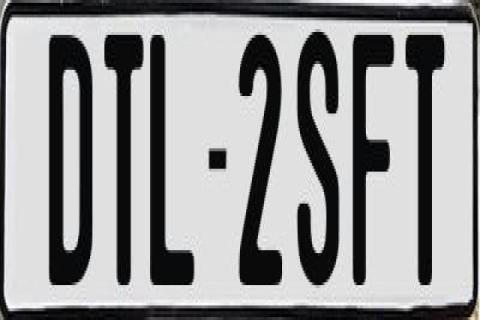0: (238, 29, 284, 291)
D: (46, 26, 88, 276)
F: (353, 32, 401, 285)
L: (148, 29, 196, 288)
S: (298, 32, 340, 285)
T: (102, 35, 144, 288), (402, 32, 444, 285)
